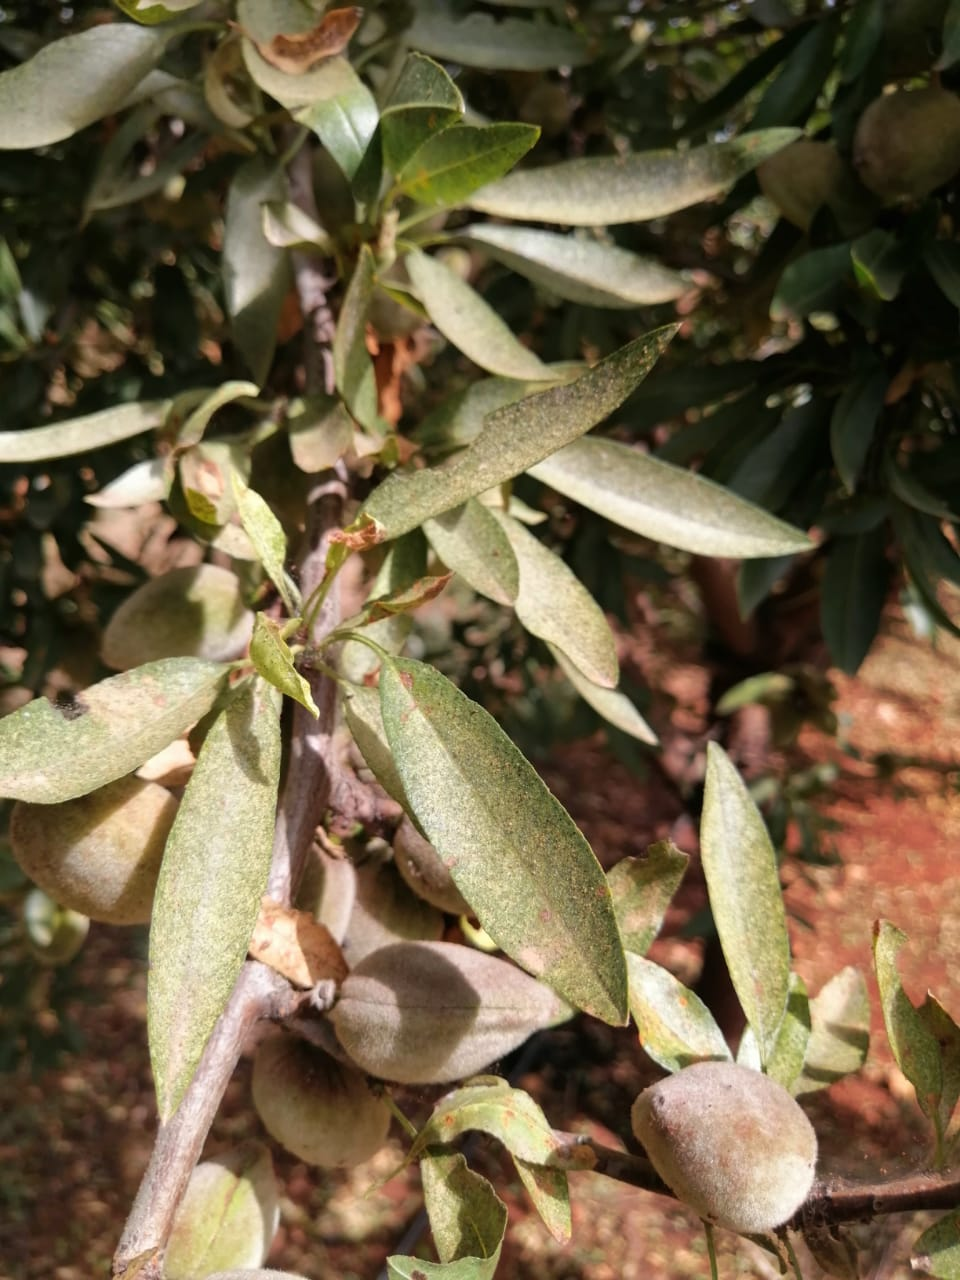acariens: (378, 650, 632, 1025), (338, 318, 690, 553), (144, 677, 283, 1130), (1, 653, 232, 807), (694, 741, 795, 1064)
